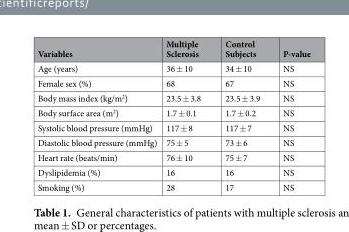table: (36, 37, 309, 192)
table column: (36, 37, 160, 192), (212, 37, 270, 192), (160, 37, 212, 192), (270, 37, 309, 192)
table column header: (36, 37, 309, 60)
table row: (36, 37, 309, 60), (36, 60, 309, 75), (36, 75, 309, 90), (36, 90, 309, 105), (36, 119, 309, 134), (36, 134, 309, 149), (36, 149, 309, 164), (36, 164, 309, 179), (36, 105, 309, 119), (36, 179, 309, 192)
